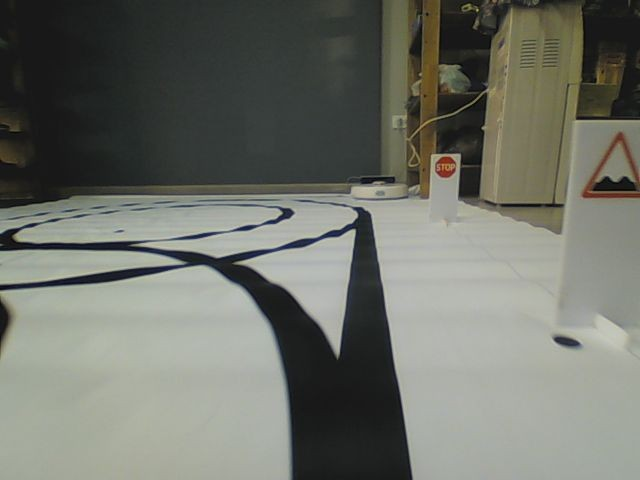Stop: (433, 156, 458, 180)
